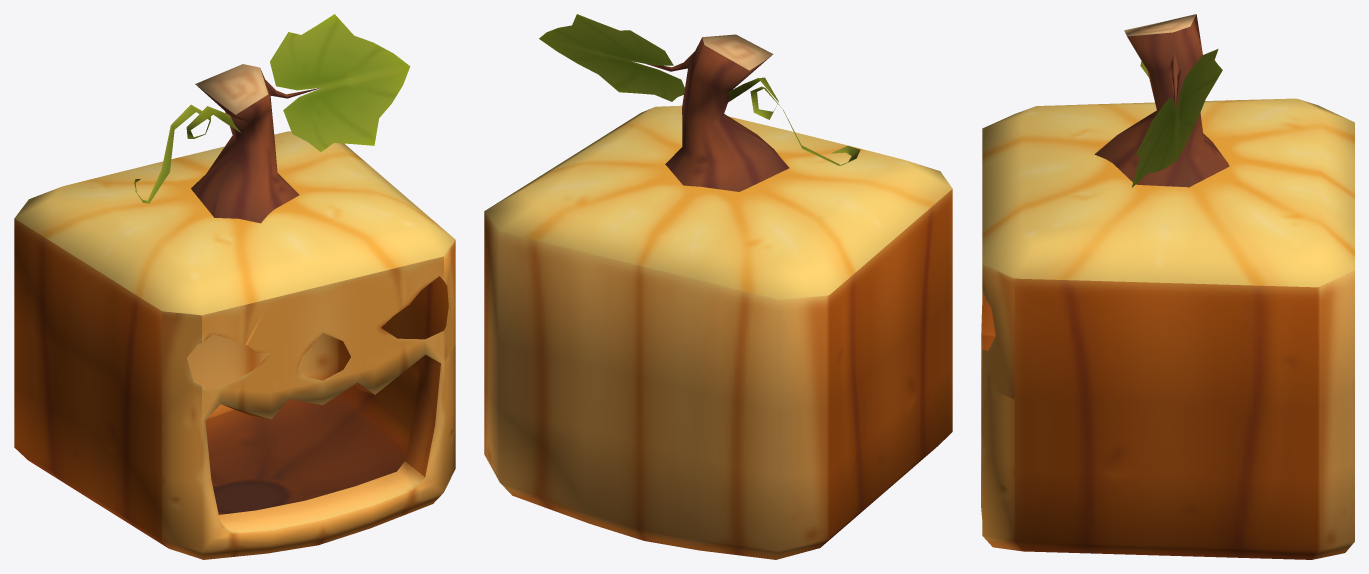
Rendered from nangua.FBX.
3 renders of one model, left to right at view 1: azimuth 30°, elevation 25°; view 2: azimuth 150°, elevation 25°; view 3: azimuth 270°, elevation 25°, orthographic. The views are drawn at different scales.
Parts seen in each view (by area): view 1: male28; view 2: male28; view 3: male28.
Boxes of the visible parts, x1,y1,x2,y2 form: male28: (14,14,455,559); male28: (484,14,952,559); male28: (981,14,1354,559).
Size of the model in its own units: 106 by 133 by 89.62.
